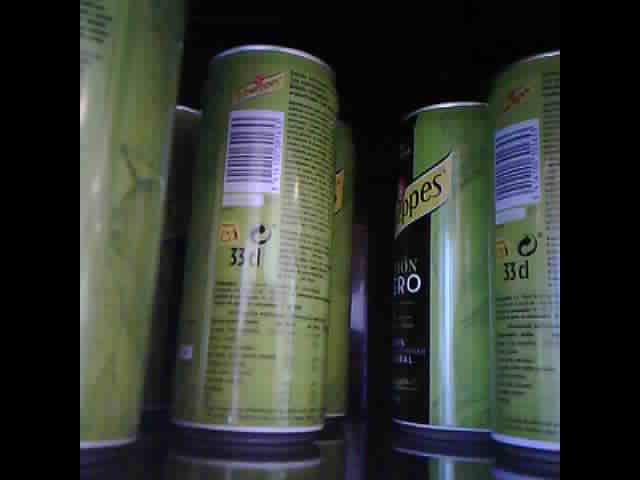schweppes: (176, 25, 356, 450), (79, 4, 185, 457), (377, 75, 494, 445), (474, 41, 558, 463)
